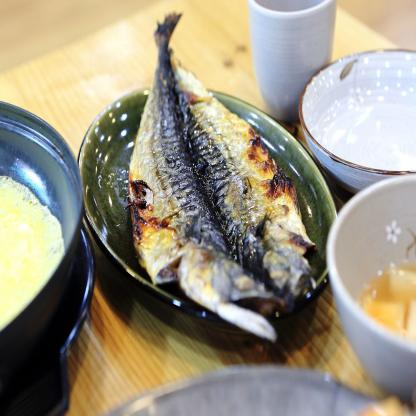Peixe: (127, 17, 319, 354)
